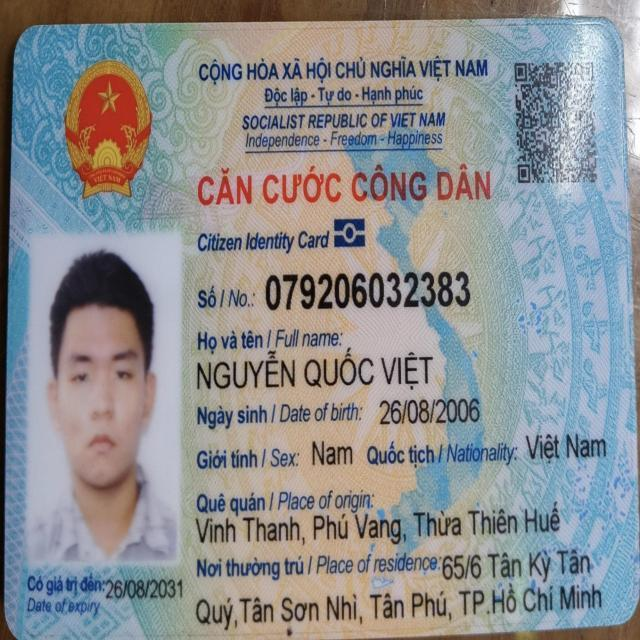current_place: (190, 580, 612, 627), (440, 544, 597, 585)
dob: (376, 391, 484, 433)
expire_date: (102, 571, 186, 605)
gender: (309, 434, 355, 472)
id: (263, 266, 475, 316)
name: (192, 350, 436, 393)
nationality: (523, 430, 610, 467)
origin_place: (190, 505, 566, 547)
